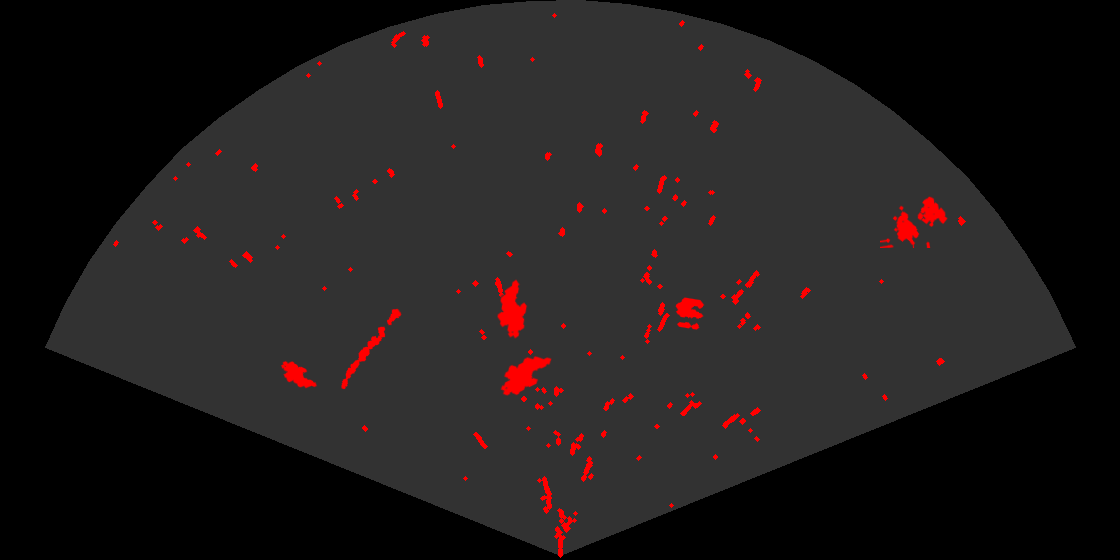AUV: (499, 354, 553, 397), (496, 278, 529, 340), (279, 359, 319, 390)
ball: (674, 296, 706, 331)
cage: (880, 195, 949, 248)
chain: (340, 307, 403, 391)
